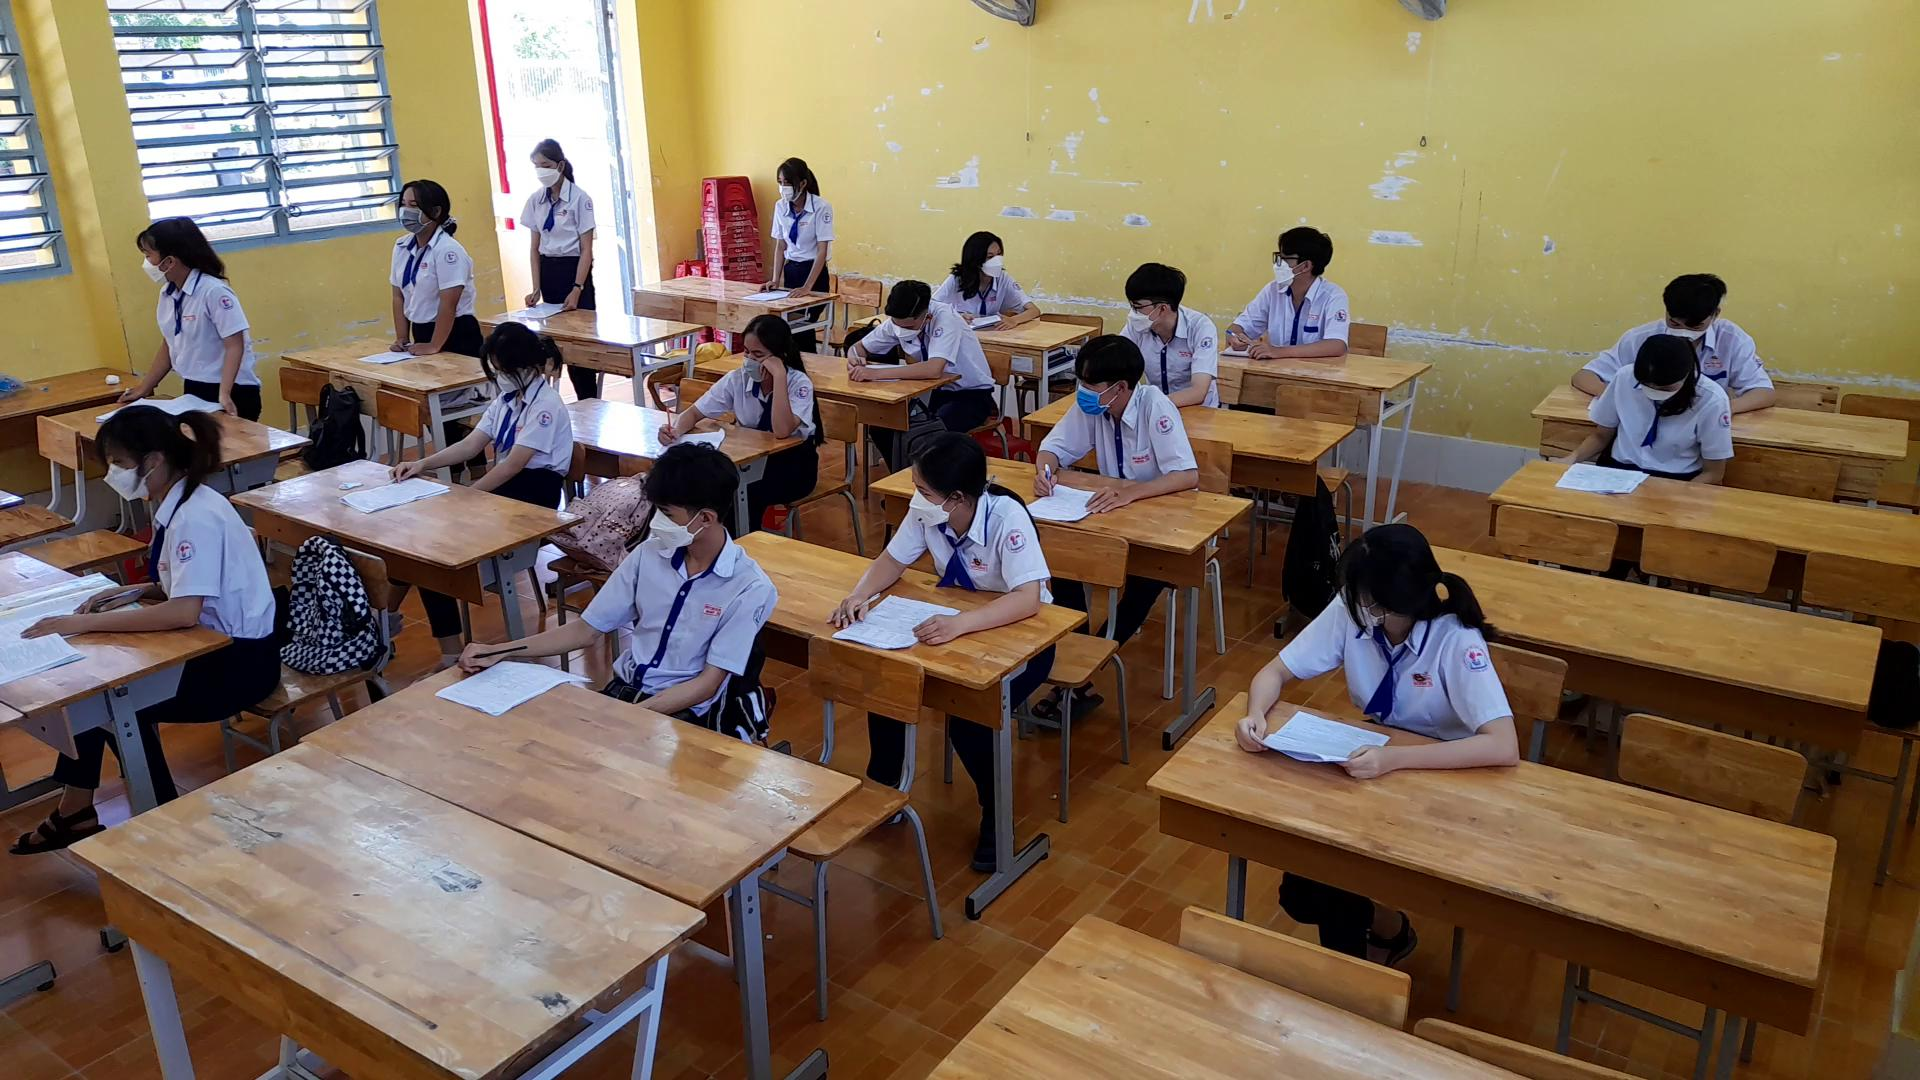Bend Over The Desk: (1615, 324, 1706, 415)
Hand Under Table: (632, 583, 750, 725), (459, 404, 560, 516), (1683, 384, 1739, 510), (1548, 368, 1617, 468)
Look Around: (1313, 508, 1451, 632), (1254, 207, 1342, 298), (936, 204, 1025, 295)
Normal: (29, 386, 280, 644), (820, 419, 1056, 644), (835, 266, 1010, 396)
Stand Up: (121, 216, 262, 415), (371, 171, 483, 373), (498, 117, 611, 318), (742, 142, 843, 306)
Wave: (762, 349, 812, 448)
